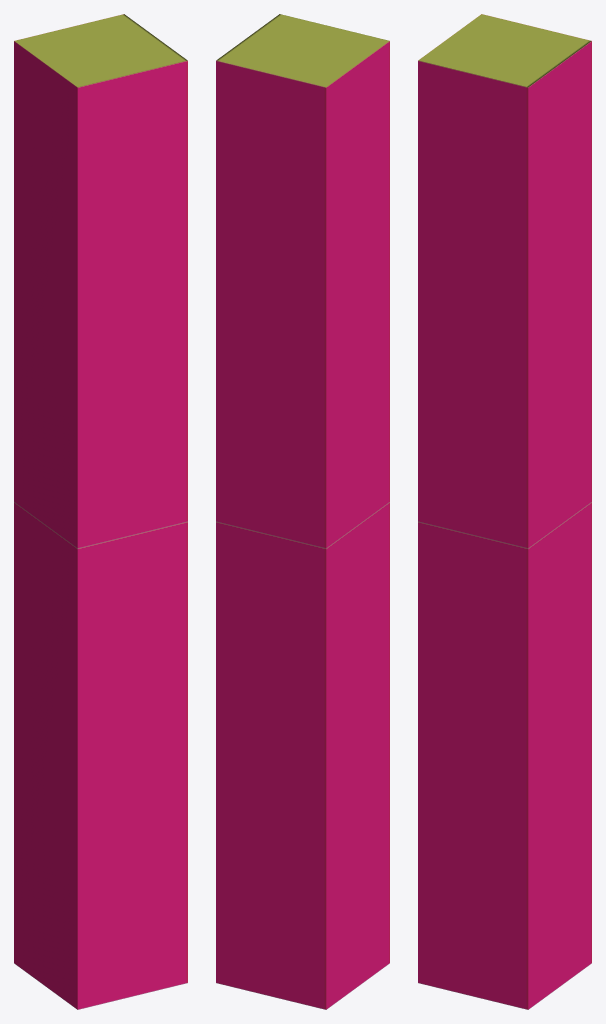
File: MK_Pillar_B_Double.fbx
The picture shows the model from 3 angles, left to right: view 1: azimuth 30°, elevation 25°; view 2: azimuth 150°, elevation 25°; view 3: azimuth 330°, elevation 25°; orthographic projection.
Visible parts, largest first — view 1: Pillar_B_Double; view 2: Pillar_B_Double; view 3: Pillar_B_Double.
Boxes of the visible parts, x1,y1,x2,y2 form: Pillar_B_Double: [14, 14, 187, 1009]; Pillar_B_Double: [216, 14, 389, 1009]; Pillar_B_Double: [418, 14, 591, 1009].
Bounding box in the file's own units: 45 × 360 × 45.
Materials: 1 (1 with a texture image).
